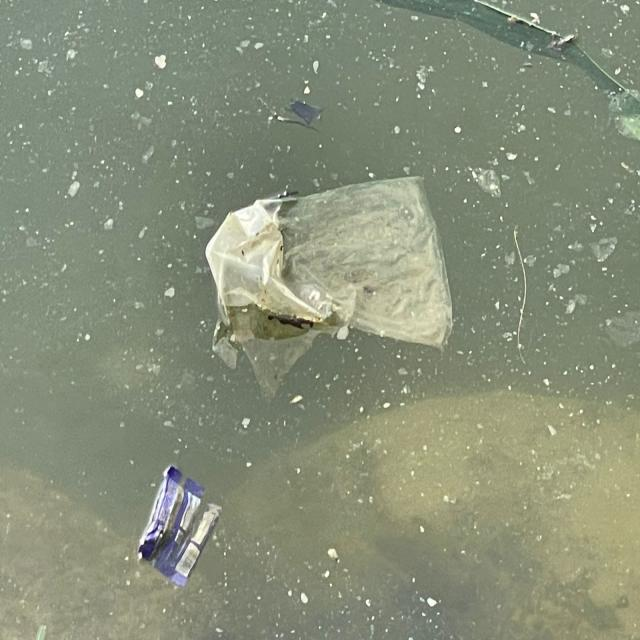Bungkus Makanan: (137, 456, 221, 595)
Kantong Plastik: (205, 167, 458, 383)
